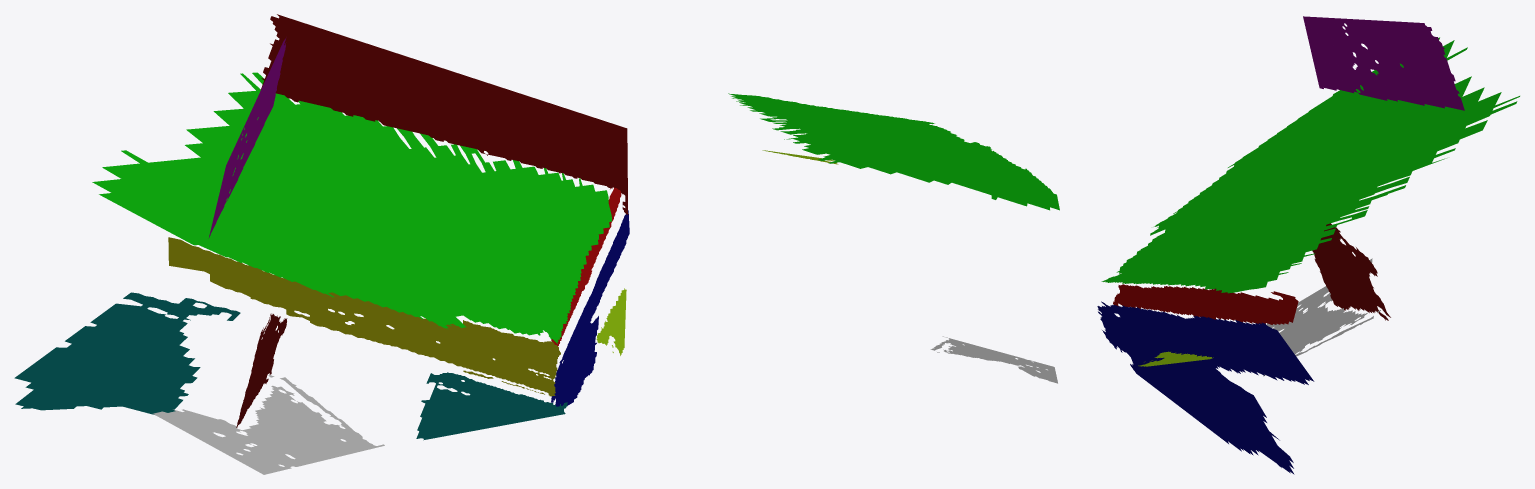
File: 576_seg_GTplane.glb
3 renders of one model, left to right at view 1: azimuth 30°, elevation 25°; view 2: azimuth 150°, elevation 25°; view 3: azimuth 270°, elevation 25°, orthographic. The views are drawn at different scales.
Size of the model in its own units: 3.37 by 2.27 by 2.46.
